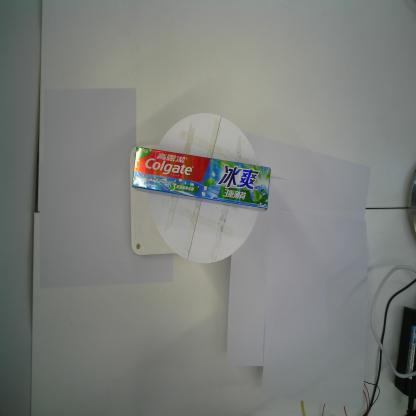Personal Hygiene: (131, 145, 272, 213)
